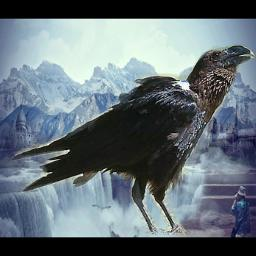Crow: (10, 44, 255, 235)
